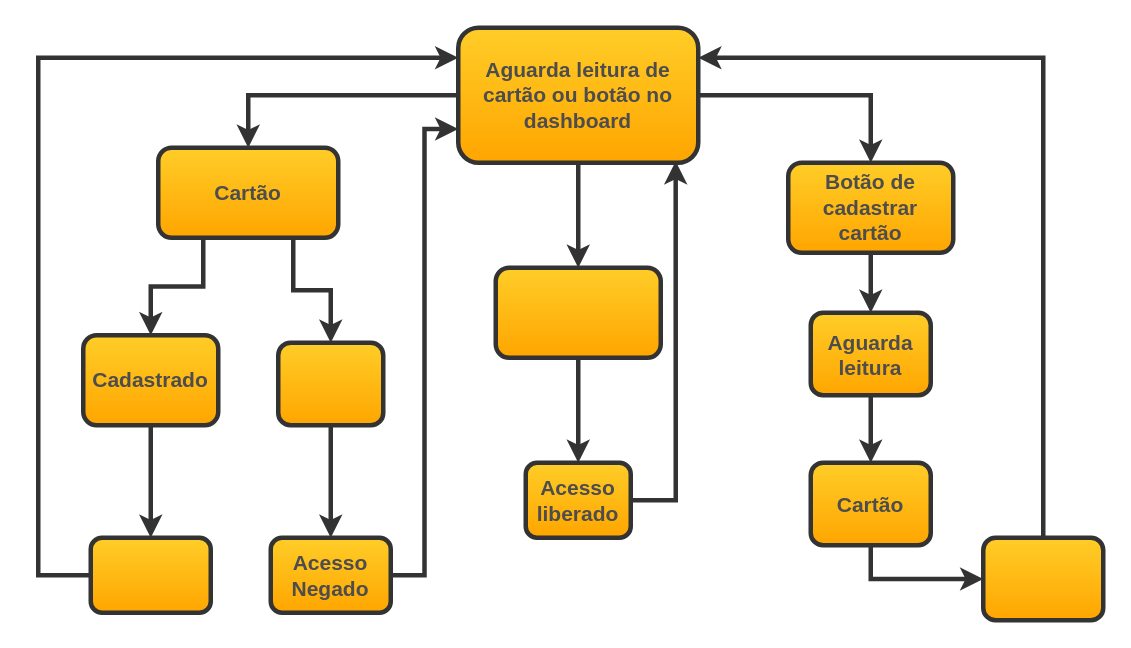
Image size: 1131x648. Some labels were removed from this diagram. Each missing label, with the box of its shape:
Acesso Permitido: (88, 535, 212, 614)
Botão de Abrir fechadura: (493, 265, 662, 359)
Cadastra cartão: (980, 535, 1105, 622)
Novo: (275, 340, 385, 427)
